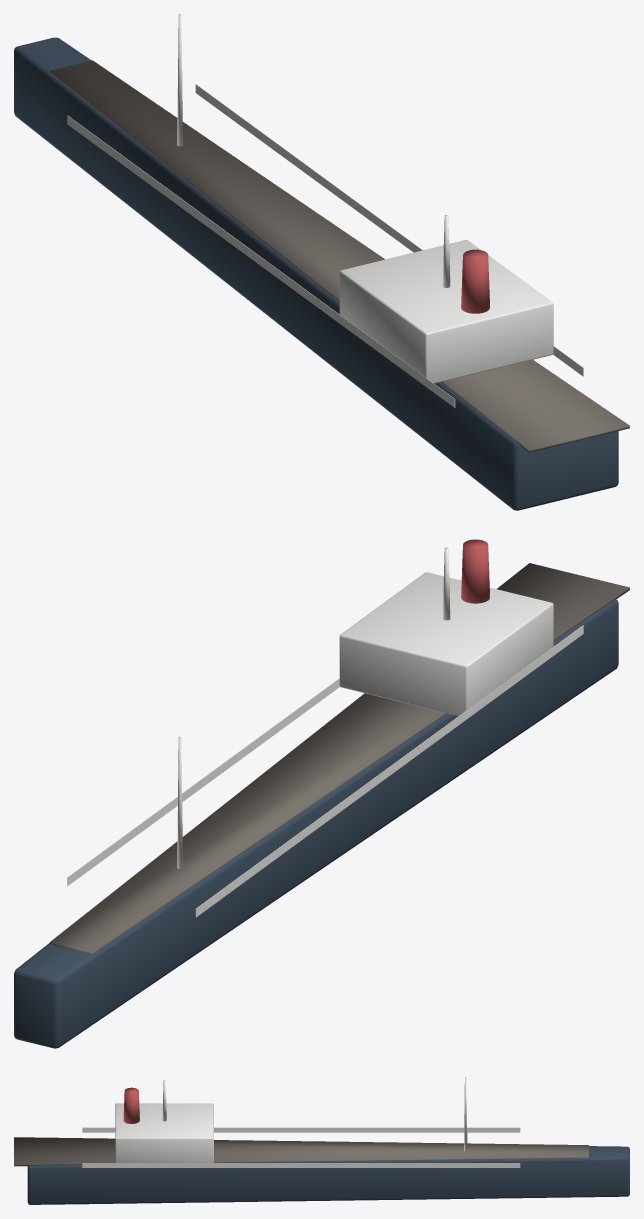
File: ShipHull_VR_v1.0.glb
3 renders of one model, top to bottom at view 1: azimuth 30°, elevation 25°; view 2: azimuth 150°, elevation 25°; view 3: azimuth 270°, elevation 25°, orthographic. The views are drawn at different scales.
Parts seen in each view (by area): view 1: ship_hull, ship_deck, superstructure, railing_port, railing_starboard, funnel; view 2: ship_hull, ship_deck, superstructure, railing_port, railing_starboard, funnel; view 3: ship_hull, ship_deck, superstructure, railing_starboard, railing_port, funnel, foremast.
Part boxes in pixels (x1,y1,x2,y2): ship_hull: (14,37,618,510); ship_deck: (49,60,629,452); superstructure: (339,240,553,383); railing_port: (67,115,455,407); railing_starboard: (195,84,583,376); funnel: (461,249,489,313); ship_hull: (14,599,618,1048); ship_deck: (49,563,629,954); superstructure: (339,572,553,715); railing_port: (195,625,583,917); railing_starboard: (67,678,339,886); funnel: (461,539,489,603); ship_hull: (27,1146,629,1204); ship_deck: (14,1137,588,1166); superstructure: (115,1103,213,1162); railing_starboard: (82,1163,520,1167); railing_port: (82,1127,520,1132); funnel: (123,1087,139,1123); foremast: (464,1077,467,1151).
Size of the model in its own units: 15.35 by 23 by 112.
